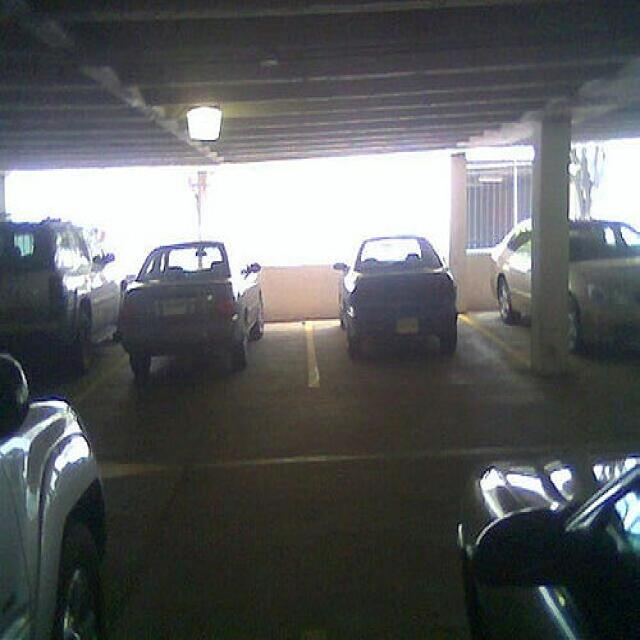car: (454, 454, 640, 640), (1, 351, 111, 639), (489, 215, 640, 353), (119, 238, 263, 382), (1, 221, 123, 375), (334, 233, 462, 361)
